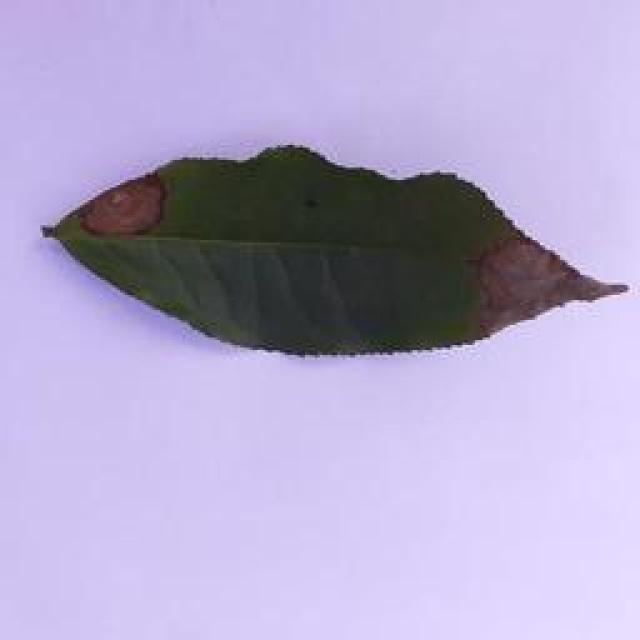Gray Blight: (35, 140, 630, 360)
